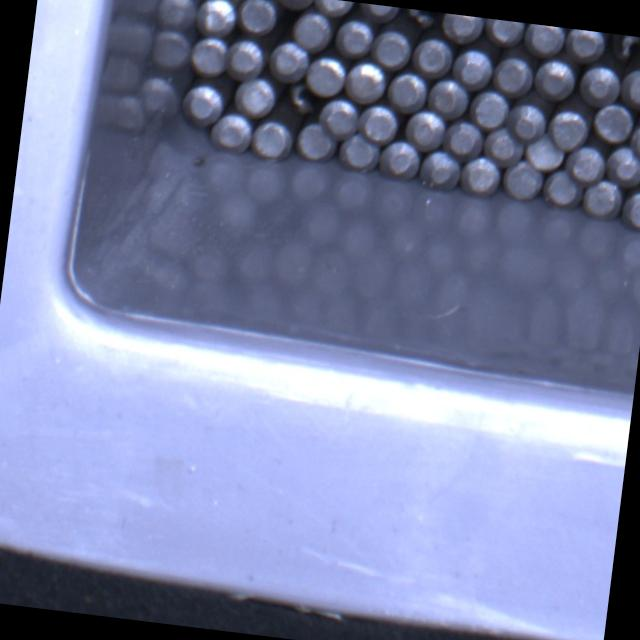tool: (343, 57, 389, 104), (576, 63, 622, 109), (208, 108, 254, 154), (533, 55, 578, 101), (450, 46, 496, 91), (179, 80, 225, 124), (403, 108, 448, 152), (480, 124, 525, 168), (318, 95, 362, 140), (427, 75, 472, 119), (411, 33, 456, 77), (234, 74, 279, 118), (376, 137, 421, 181), (294, 119, 339, 163), (225, 36, 268, 82), (385, 70, 429, 114), (305, 52, 349, 96), (290, 8, 334, 52), (545, 106, 589, 150), (490, 52, 534, 96), (592, 100, 636, 144), (268, 40, 312, 84), (418, 148, 462, 192), (542, 166, 586, 210), (250, 116, 295, 159), (501, 157, 545, 200), (521, 130, 566, 172), (357, 102, 400, 145), (369, 26, 412, 69), (564, 142, 608, 184), (188, 33, 230, 77), (504, 100, 548, 142), (336, 132, 380, 174), (443, 117, 485, 160), (333, 16, 376, 58), (580, 177, 623, 219), (468, 88, 510, 130), (460, 154, 502, 196), (602, 143, 640, 189), (235, 0, 279, 36), (197, 0, 242, 34), (522, 23, 566, 57), (562, 28, 606, 62), (441, 13, 485, 45), (483, 18, 526, 49), (619, 67, 640, 111), (356, 2, 401, 22), (621, 188, 640, 230), (311, 0, 354, 16), (629, 119, 640, 161), (274, 0, 314, 10)
tool_b: (280, 80, 321, 119), (604, 33, 640, 64), (398, 8, 442, 32)
